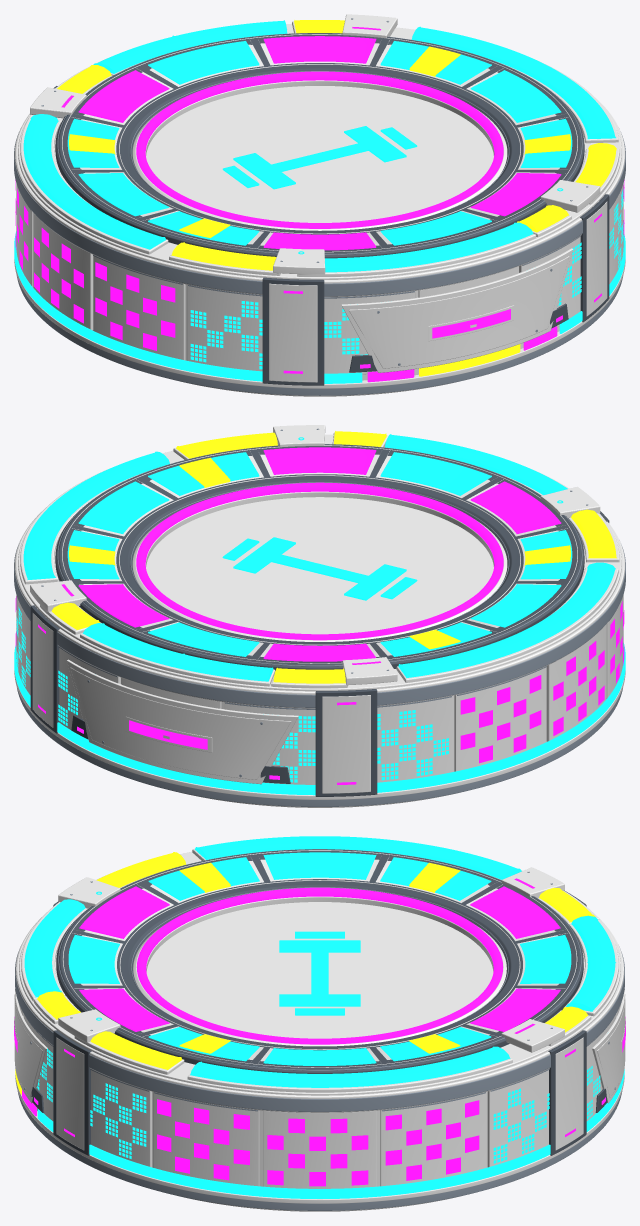
Rendered from Heavy.fbx.
3 renders of one model, top to bottom at view 1: azimuth 30°, elevation 25°; view 2: azimuth 150°, elevation 25°; view 3: azimuth 270°, elevation 25°, orthographic.
Visible parts, largest first — view 1: SM_Puck_Heavy_RetroArcade; view 2: SM_Puck_Heavy_RetroArcade; view 3: SM_Puck_Heavy_RetroArcade.
Part boxes in pixels (x1,y1,x2,y2): SM_Puck_Heavy_RetroArcade: (14, 14, 625, 396); SM_Puck_Heavy_RetroArcade: (14, 425, 625, 807); SM_Puck_Heavy_RetroArcade: (14, 836, 625, 1211).
Size of the model in its own units: 97.2 by 97.5 by 23.6.
